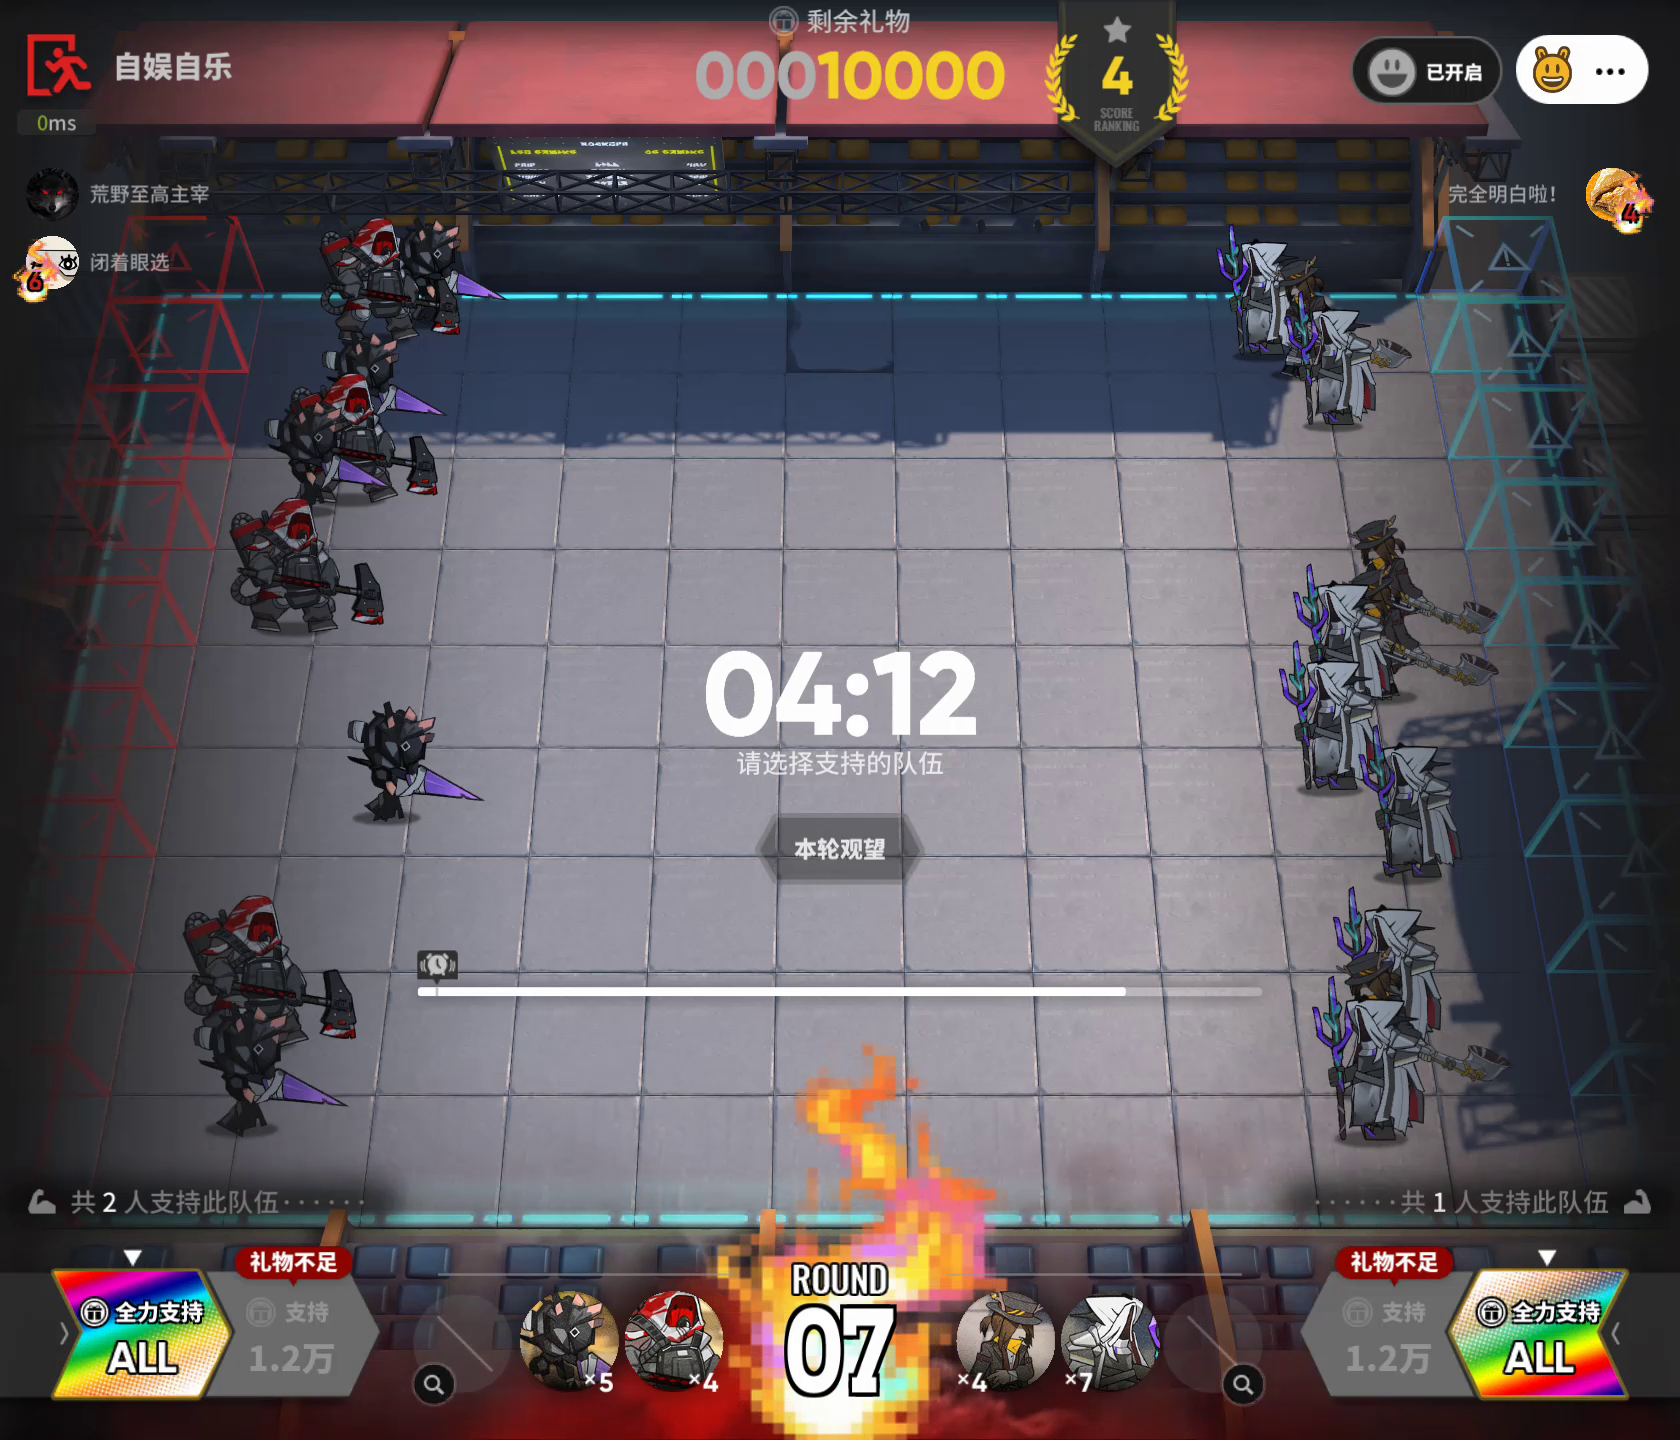“大斧”: (186, 889, 364, 1047), (223, 486, 387, 636), (289, 361, 440, 511), (314, 217, 463, 344), (620, 1284, 730, 1394)
凋零萨卡兹: (1304, 970, 1439, 1144), (1324, 877, 1446, 1034), (1274, 639, 1390, 801), (1353, 724, 1471, 883), (1286, 560, 1404, 703), (1284, 289, 1387, 439), (1211, 221, 1307, 369), (1061, 1284, 1167, 1397)
失业萨克斯手: (1336, 951, 1509, 1090), (1349, 561, 1501, 714), (1341, 511, 1503, 641), (1279, 250, 1411, 379), (947, 1281, 1061, 1399)
畸变之矛: (194, 1001, 351, 1141), (344, 693, 484, 824), (317, 324, 457, 426), (401, 214, 513, 334), (510, 1280, 621, 1391), (281, 403, 391, 507)
